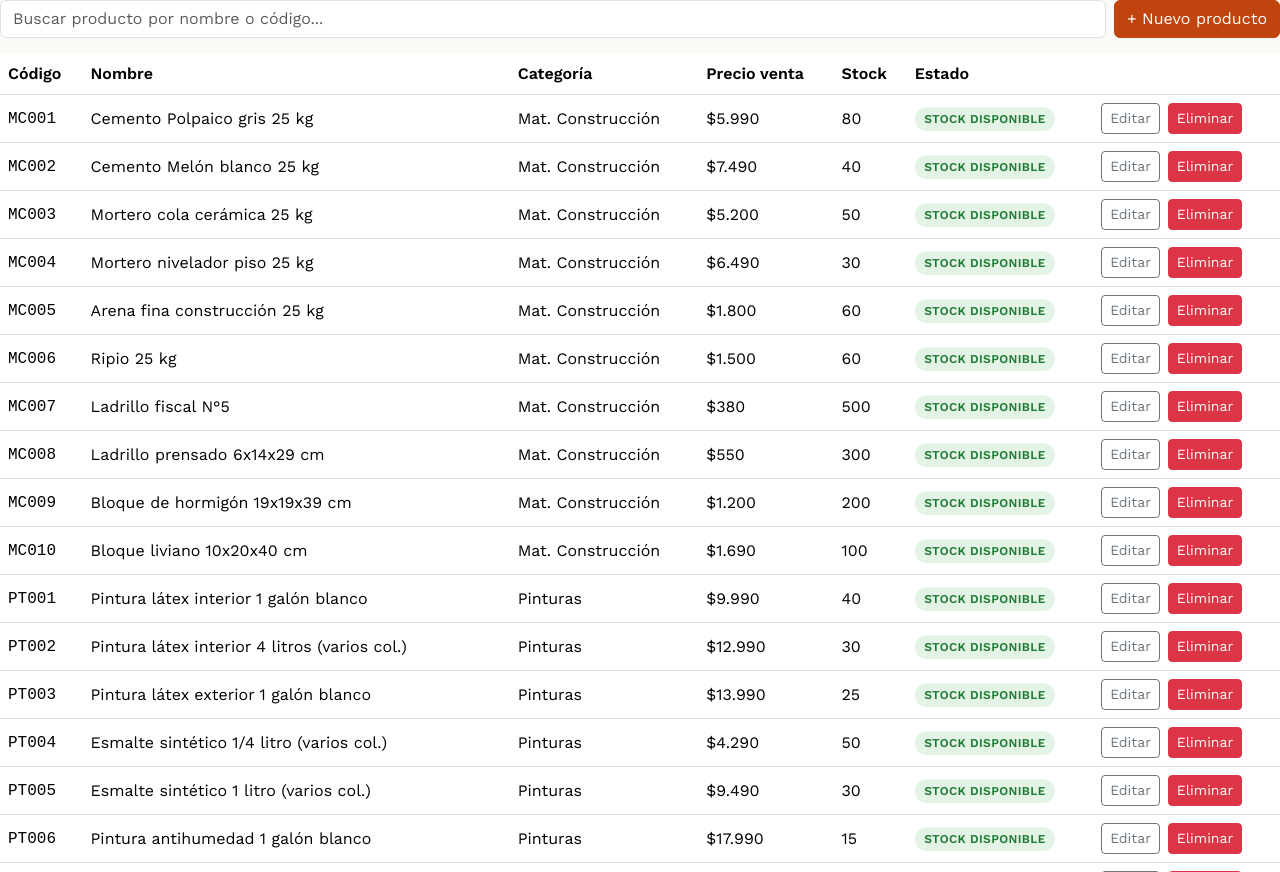
Test: <TablaProductosAdmin /> › muestra un estado vacío cuando no hay coincidencias
Type "sin-coincidencias" into the search field at coordinates (553, 19), box [0,0,1106,38]
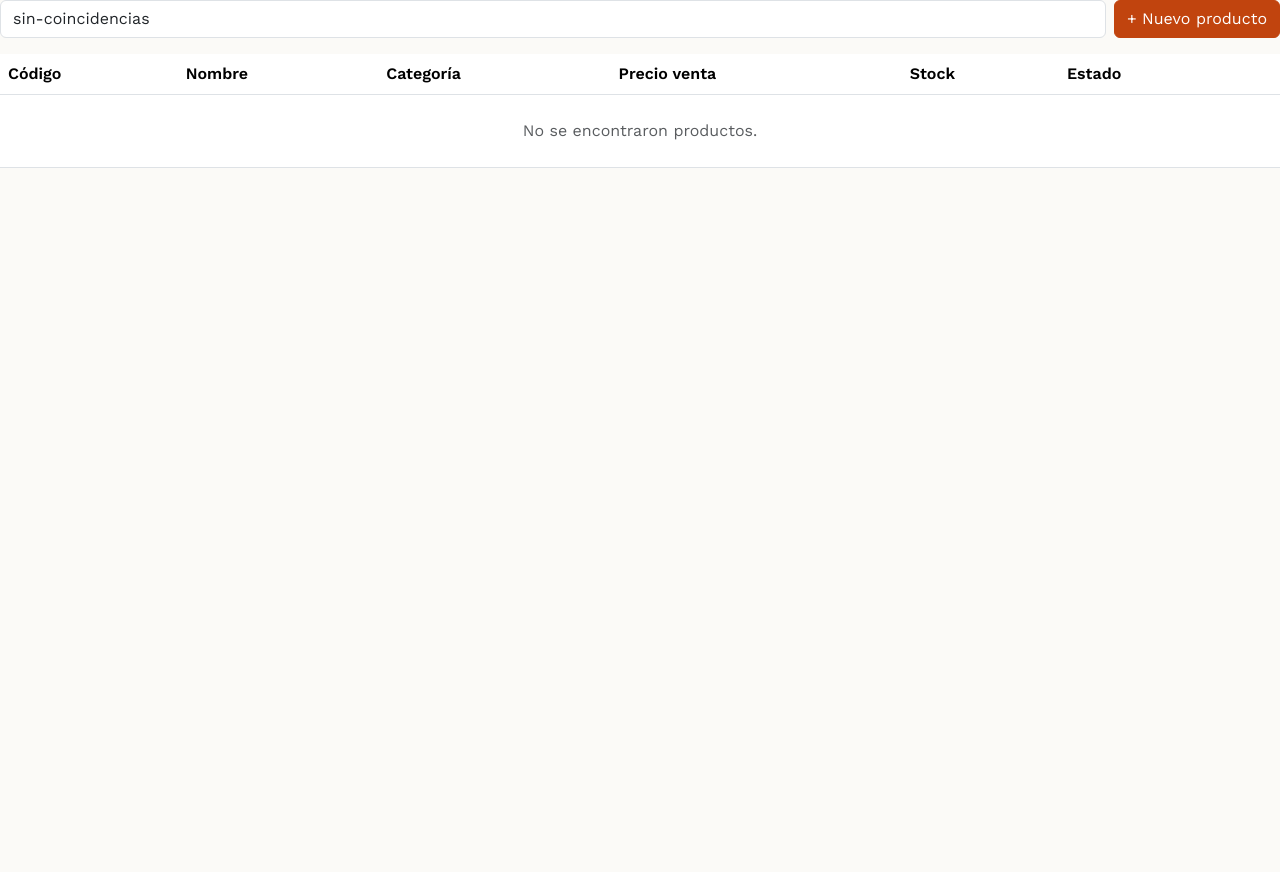
Now the text "No se encontraron productos." is shown, box [0,94,1279,168]
